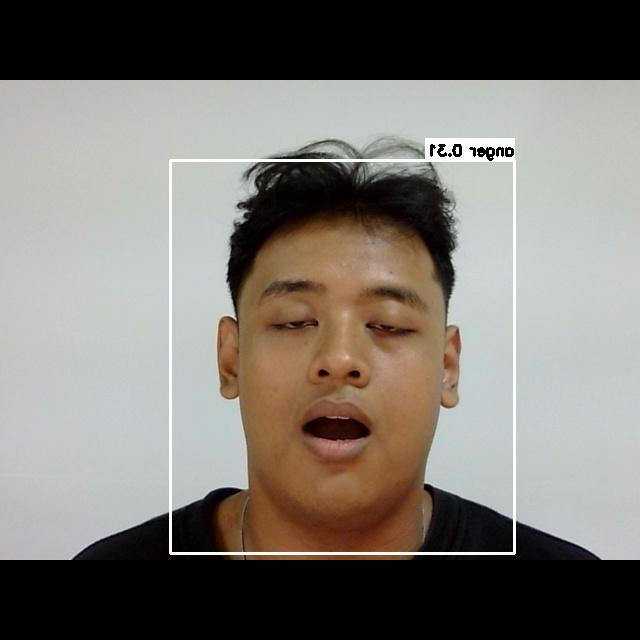Surprised: (240, 249, 443, 485)
